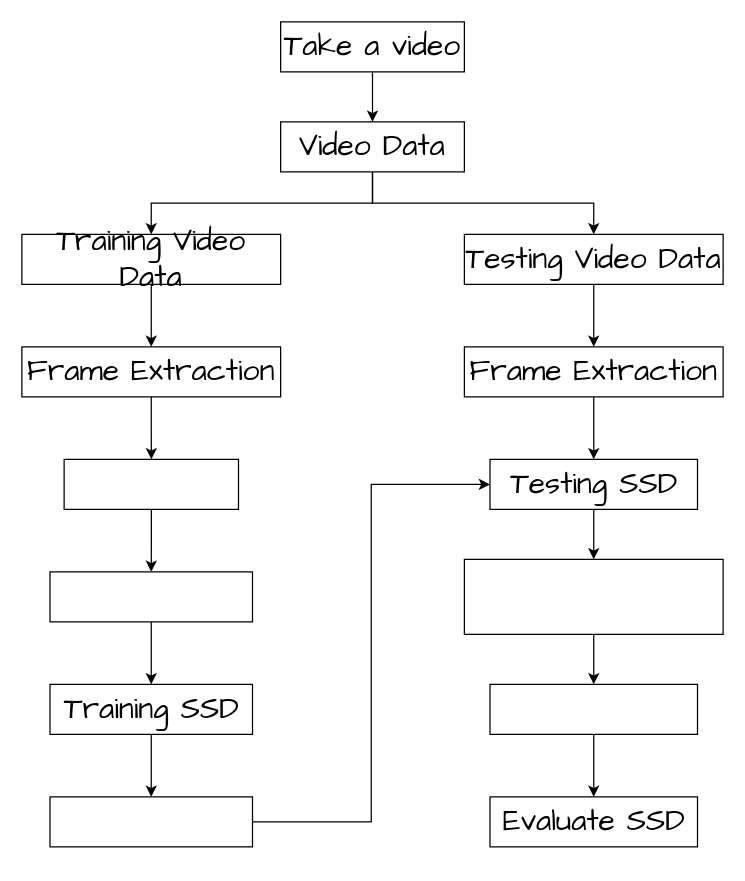
Some shapes in this 745 by 881 pixel diagram are drawn without their labels. Each missing label, with the centre of its shape:
Labeling: (150,483)
Trained Weight: (150,821)
Training Data: (150,596)
Turn Collection of Frame into Video: (593,596)
Video Result: (593,708)
